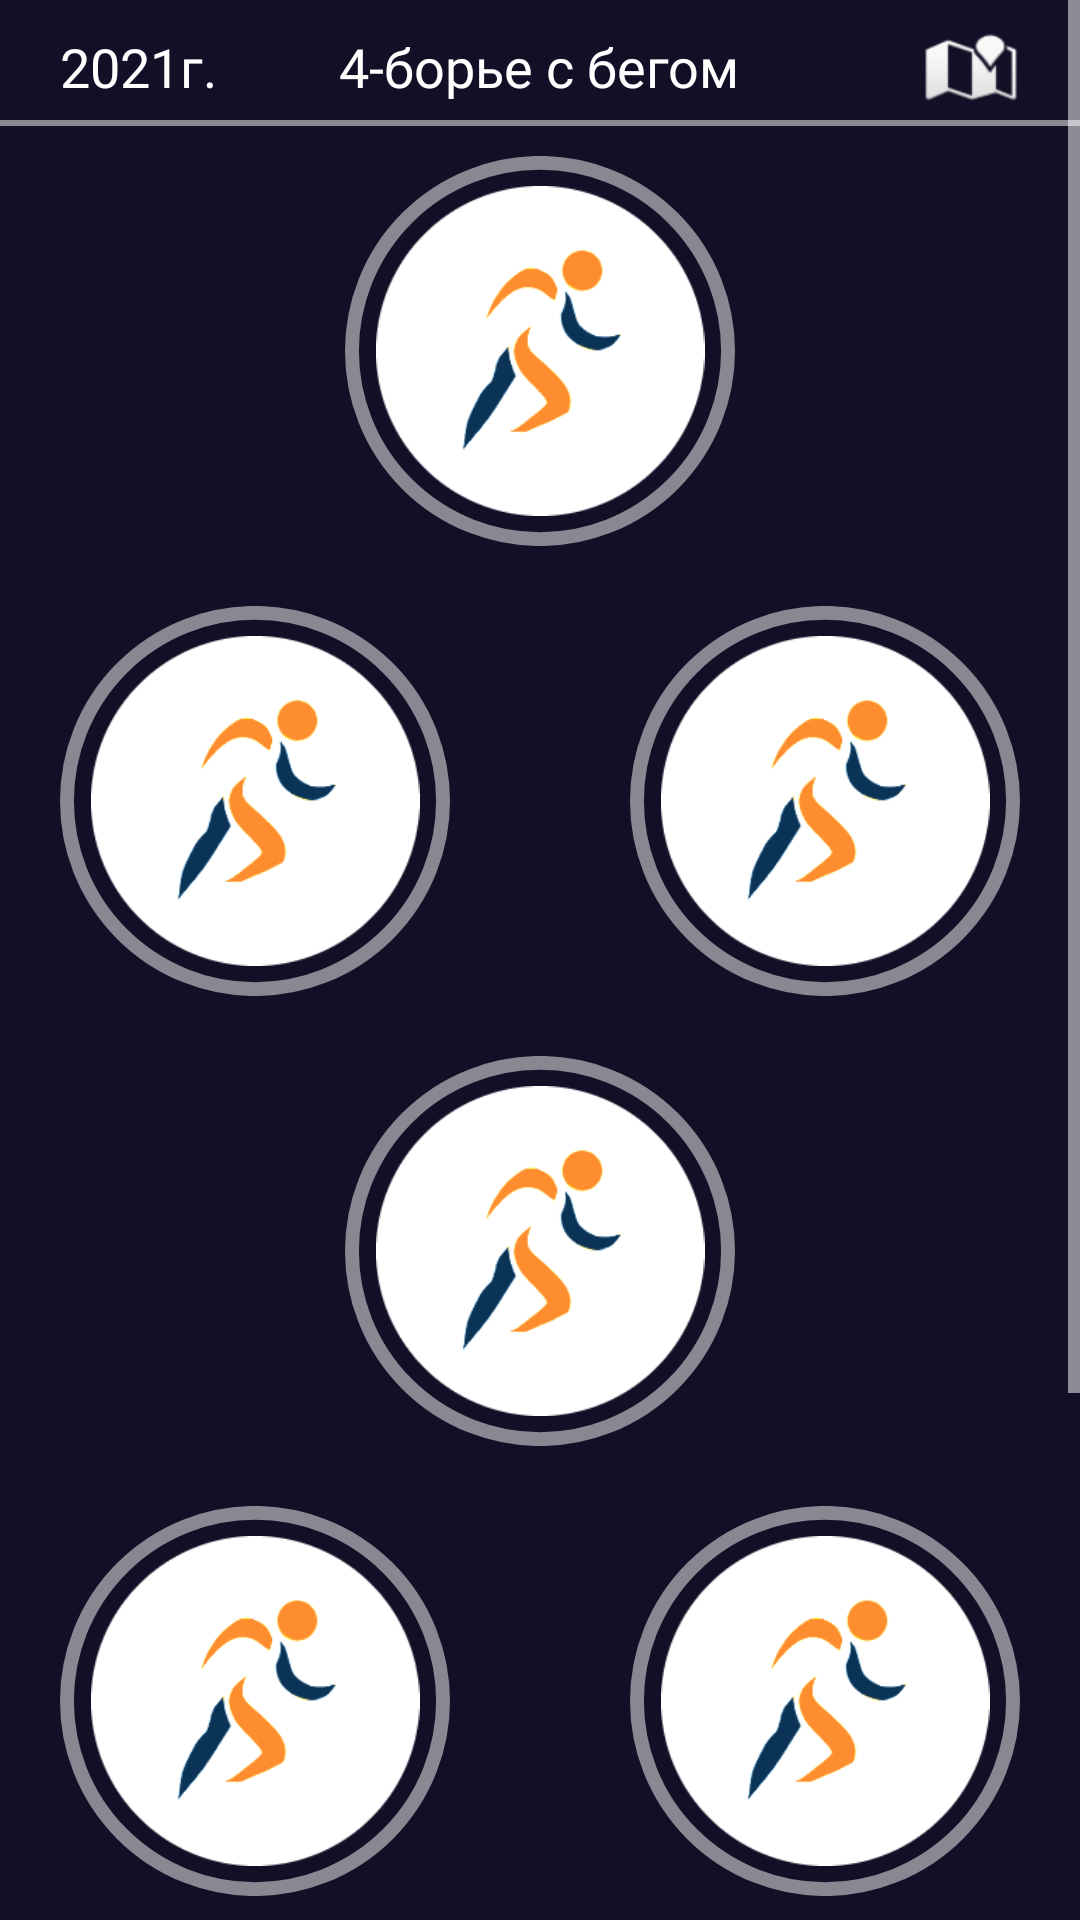

Screen size 1080 × 1920. Icon name, then its box in pixels as [x1, y1, x2, y2]:
map: [925, 34, 1017, 100]
